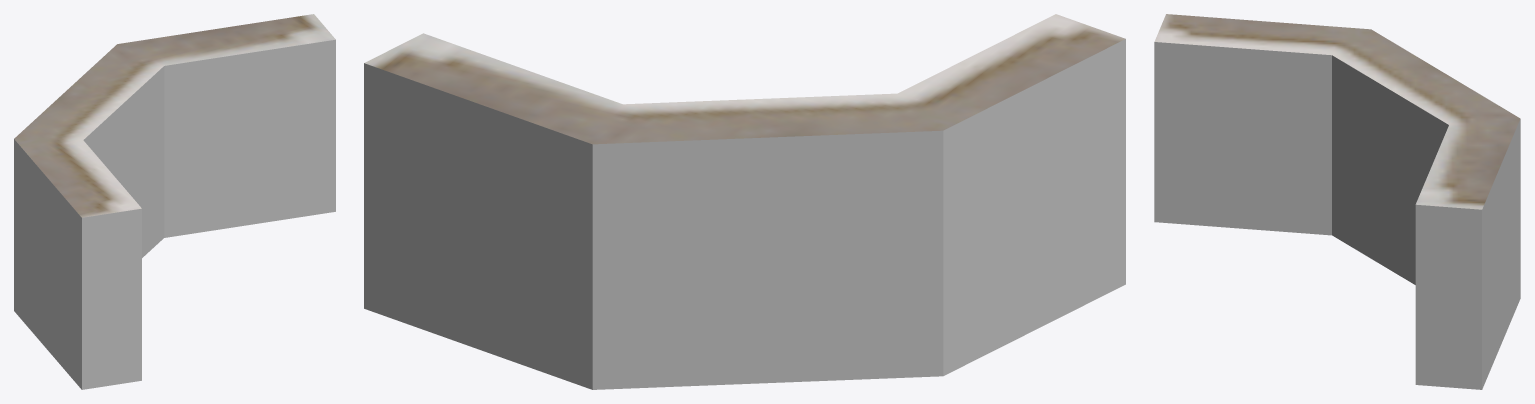
The model's file is DEBW_0010007THZZ.gltf.
The picture shows the model from 3 angles, left to right: view 1: azimuth 30°, elevation 25°; view 2: azimuth 150°, elevation 25°; view 3: azimuth 270°, elevation 25°; orthographic projection. The views are drawn at different scales.
Visible parts, largest first — view 1: Z_UP; view 2: Z_UP; view 3: Z_UP.
Part boxes in pixels (x1=…): Z_UP: x1=14, y1=14, x2=335, y2=389; Z_UP: x1=364, y1=14, x2=1125, y2=389; Z_UP: x1=1154, y1=14, x2=1520, y2=389.
Size of the model in its own units: 18.22 by 7.82 by 14.4.
Materials: 2 (1 with a texture image).
